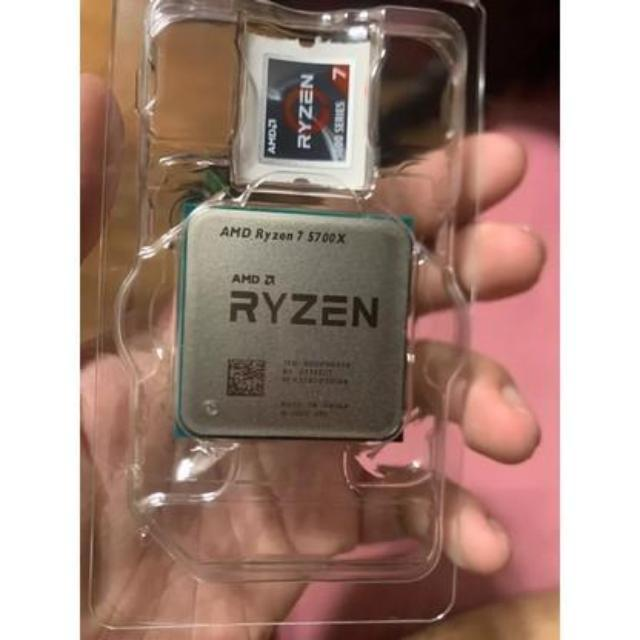CPU: (184, 203, 399, 445)
